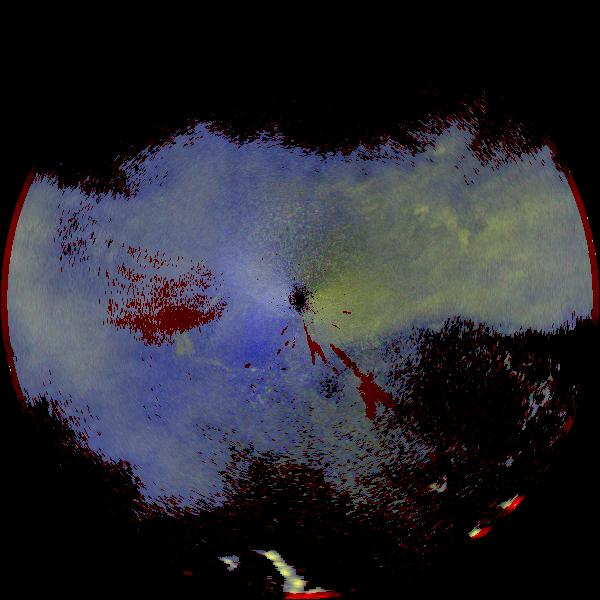roost: (125, 315, 215, 405)
